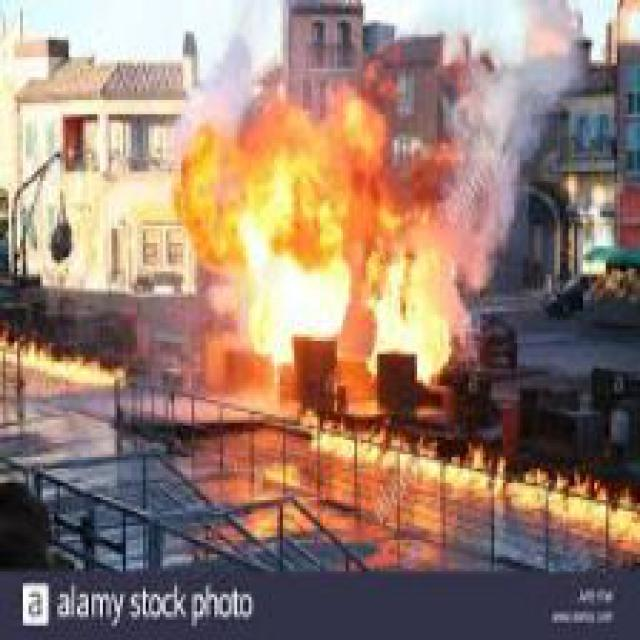fire: (174, 49, 469, 414)
